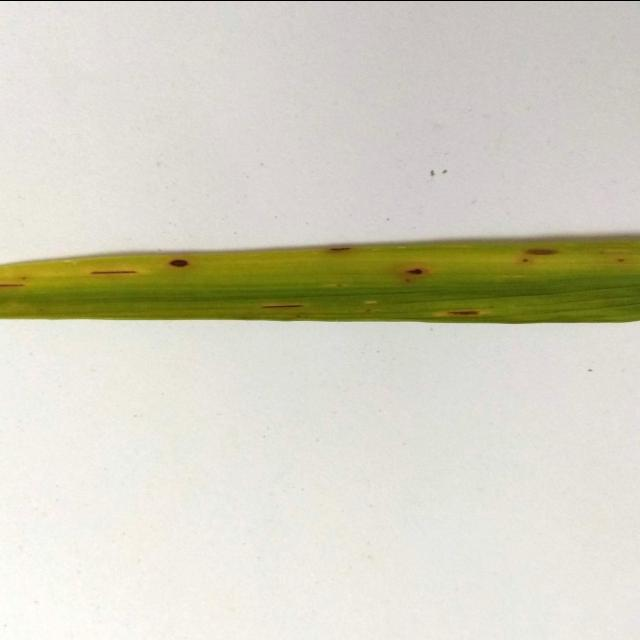Brown spot: (0, 140, 640, 387)
